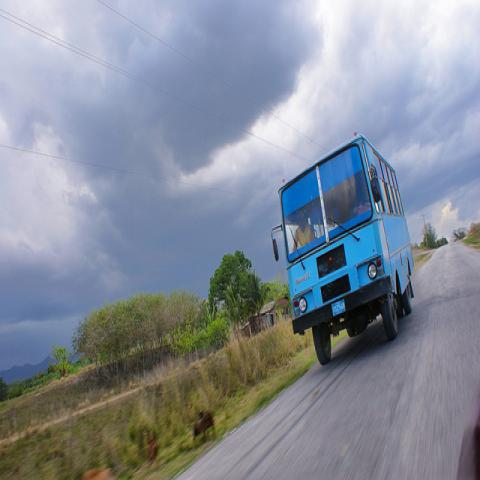bus: (270, 135, 415, 365)
